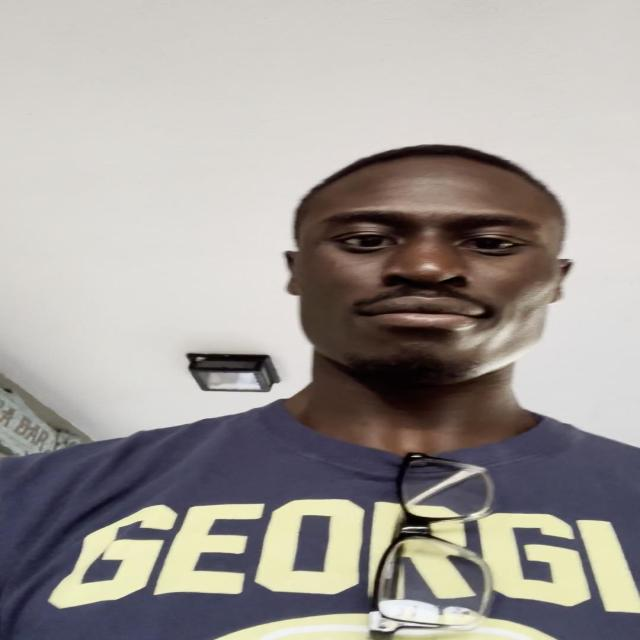NO-Mask: (280, 154, 574, 401)
